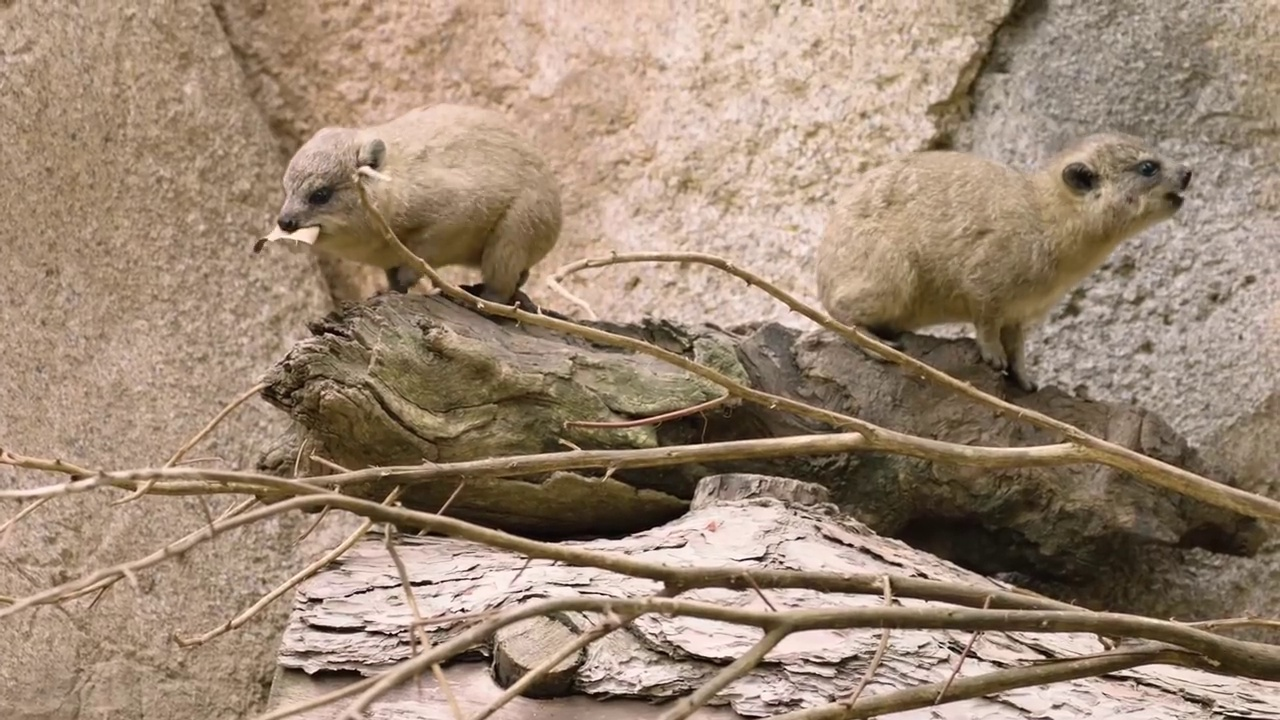Rock Hyrex: (812, 133, 1193, 416), (276, 101, 564, 338)
